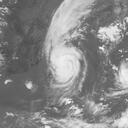cyclone: (44, 42, 88, 94)
